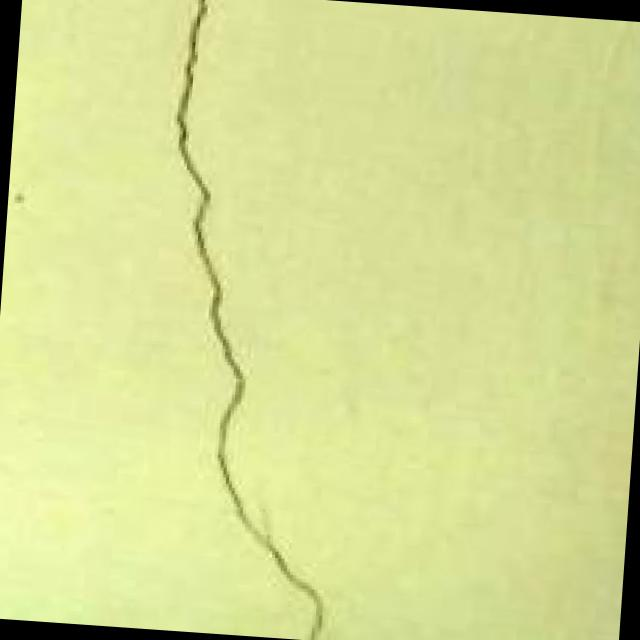crack: (65, 0, 389, 632)
